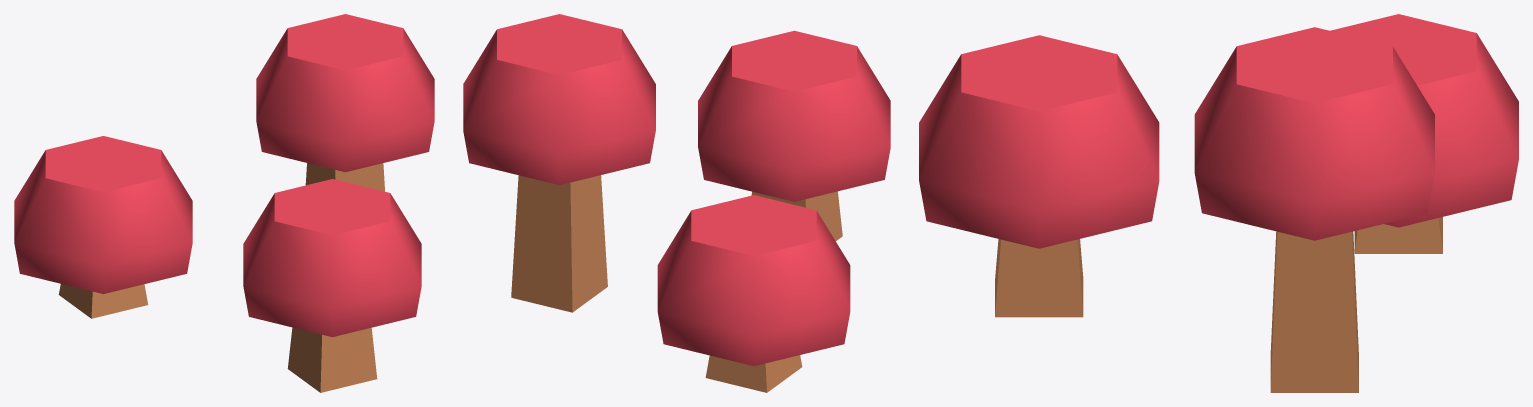
Rendered from mushrooms.obj.
The picture shows the model from 3 angles, left to right: view 1: azimuth 30°, elevation 25°; view 2: azimuth 150°, elevation 25°; view 3: azimuth 270°, elevation 25°; orthographic projection. The views are drawn at different scales.
Parts seen in each view (by area): view 1: mushrooms; view 2: mushrooms; view 3: mushrooms.
Part boxes in pixels (x1,y1,x2,y2): mushrooms: (14,14,434,392); mushrooms: (463,14,890,392); mushrooms: (919,14,1518,392).
Size of the model in its own units: 0.5242 by 0.295 by 0.5188.
